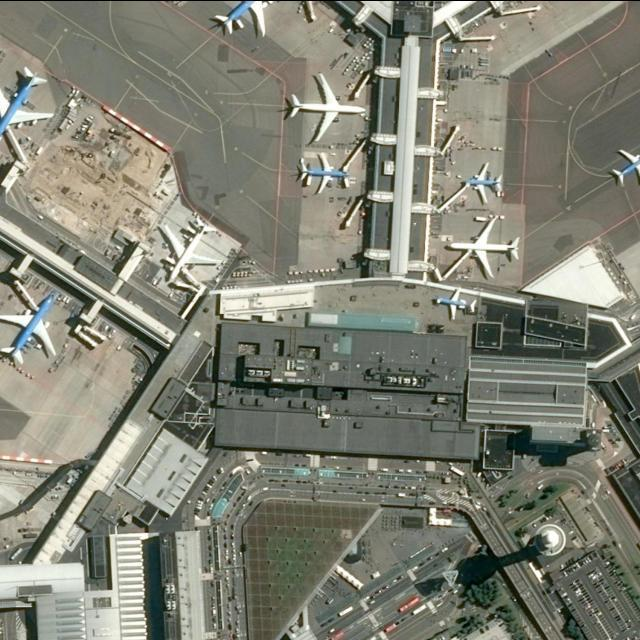Aircraft: (283, 76, 367, 142), (0, 291, 58, 374), (447, 218, 521, 279), (0, 67, 54, 147), (206, 0, 280, 38), (295, 149, 351, 197), (461, 167, 505, 207), (606, 143, 640, 191), (431, 288, 475, 323)
